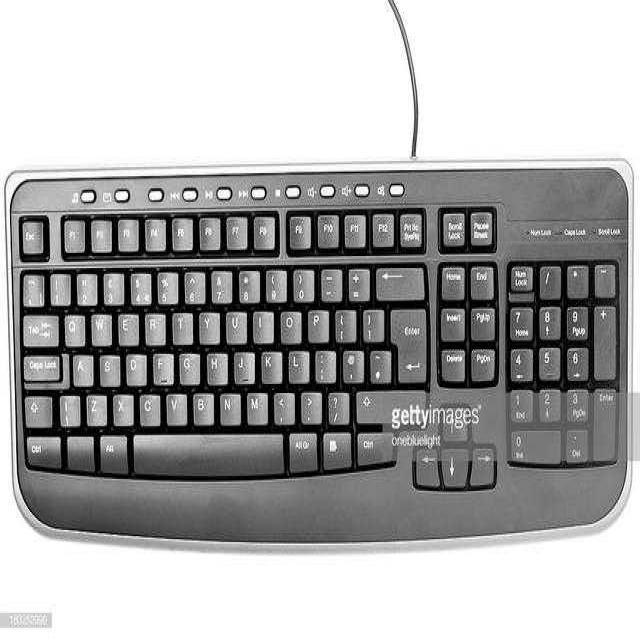keyboard: (0, 163, 631, 529)
